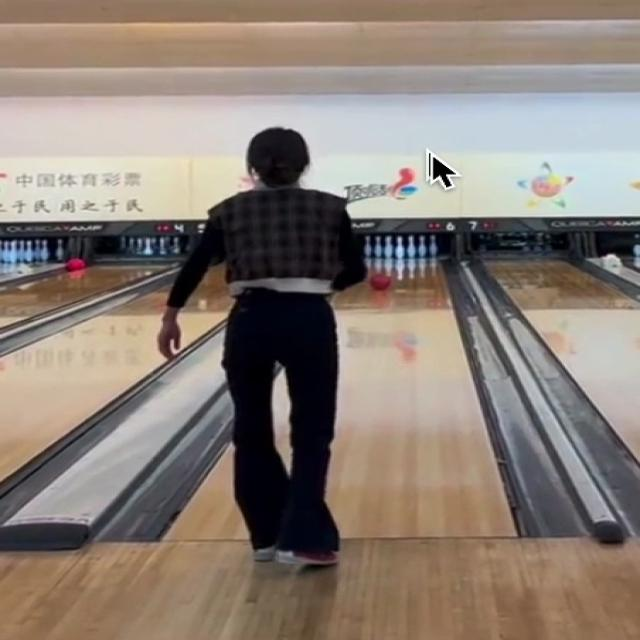alley: (327, 259, 514, 536), (166, 448, 246, 539)
balls: (370, 272, 389, 290)
bottle: (364, 234, 438, 257)
